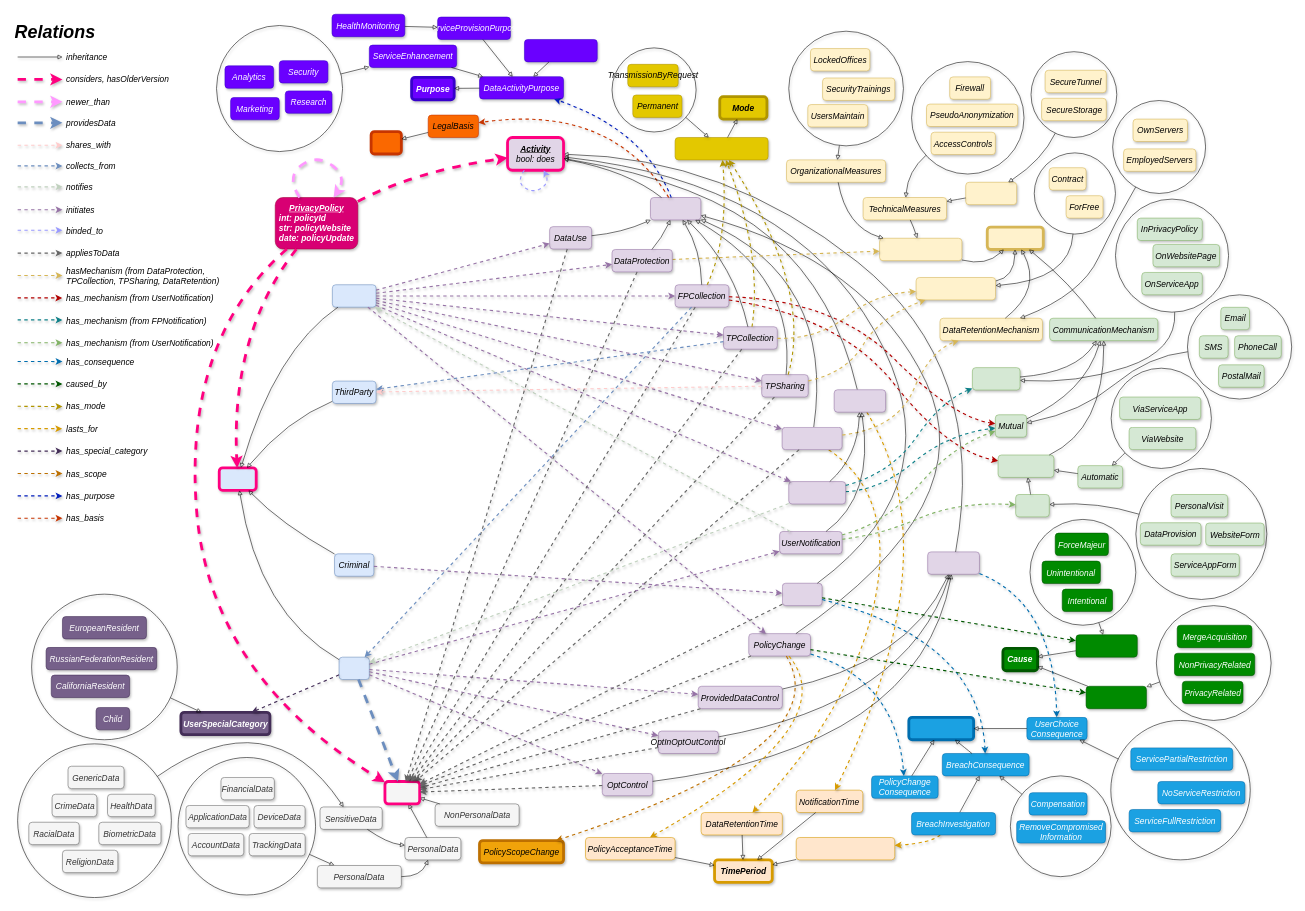
This 1305x911 diagram has some shape labels left out. Here are the shapes that lost their labels. From the top down, the centre of each, then its label:
At point (561, 51): "LegalCompliance".
At point (386, 143): "Basis".
At point (721, 149): "DataTransmissionMode".
At point (676, 209): "DataActivity".
At point (991, 194): "Encryption".
At point (921, 250): "SecurityMechanism".
At point (1015, 239): "Mechanism".
At point (354, 296): "FirstParty".
At point (956, 289): "TPS&CMechanism".
At point (996, 379): "FPSpecific".
At point (860, 401): "Notification".
At point (812, 439): "DataRetention".
At point (238, 479): "Agent".
At point (1026, 466): "UserSpecific".
At point (817, 493): "FPNotification".
At point (1033, 506): "Manual".
At point (954, 563): "DataControl".
At point (802, 595): "Breach".
At point (1107, 646): "BreachCause".
At point (354, 668): "User".
At point (1116, 698): "PolicyChange Cause".
At point (941, 729): "Consequence".
At point (402, 793): "Data".
At point (845, 849): "BreachInvestigationTime".
